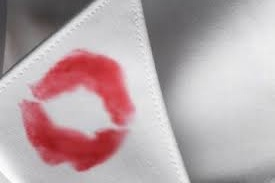lipstick: (13, 56, 135, 167), (25, 133, 124, 169), (32, 62, 84, 101), (64, 56, 117, 91), (14, 103, 51, 138), (101, 88, 135, 116)
